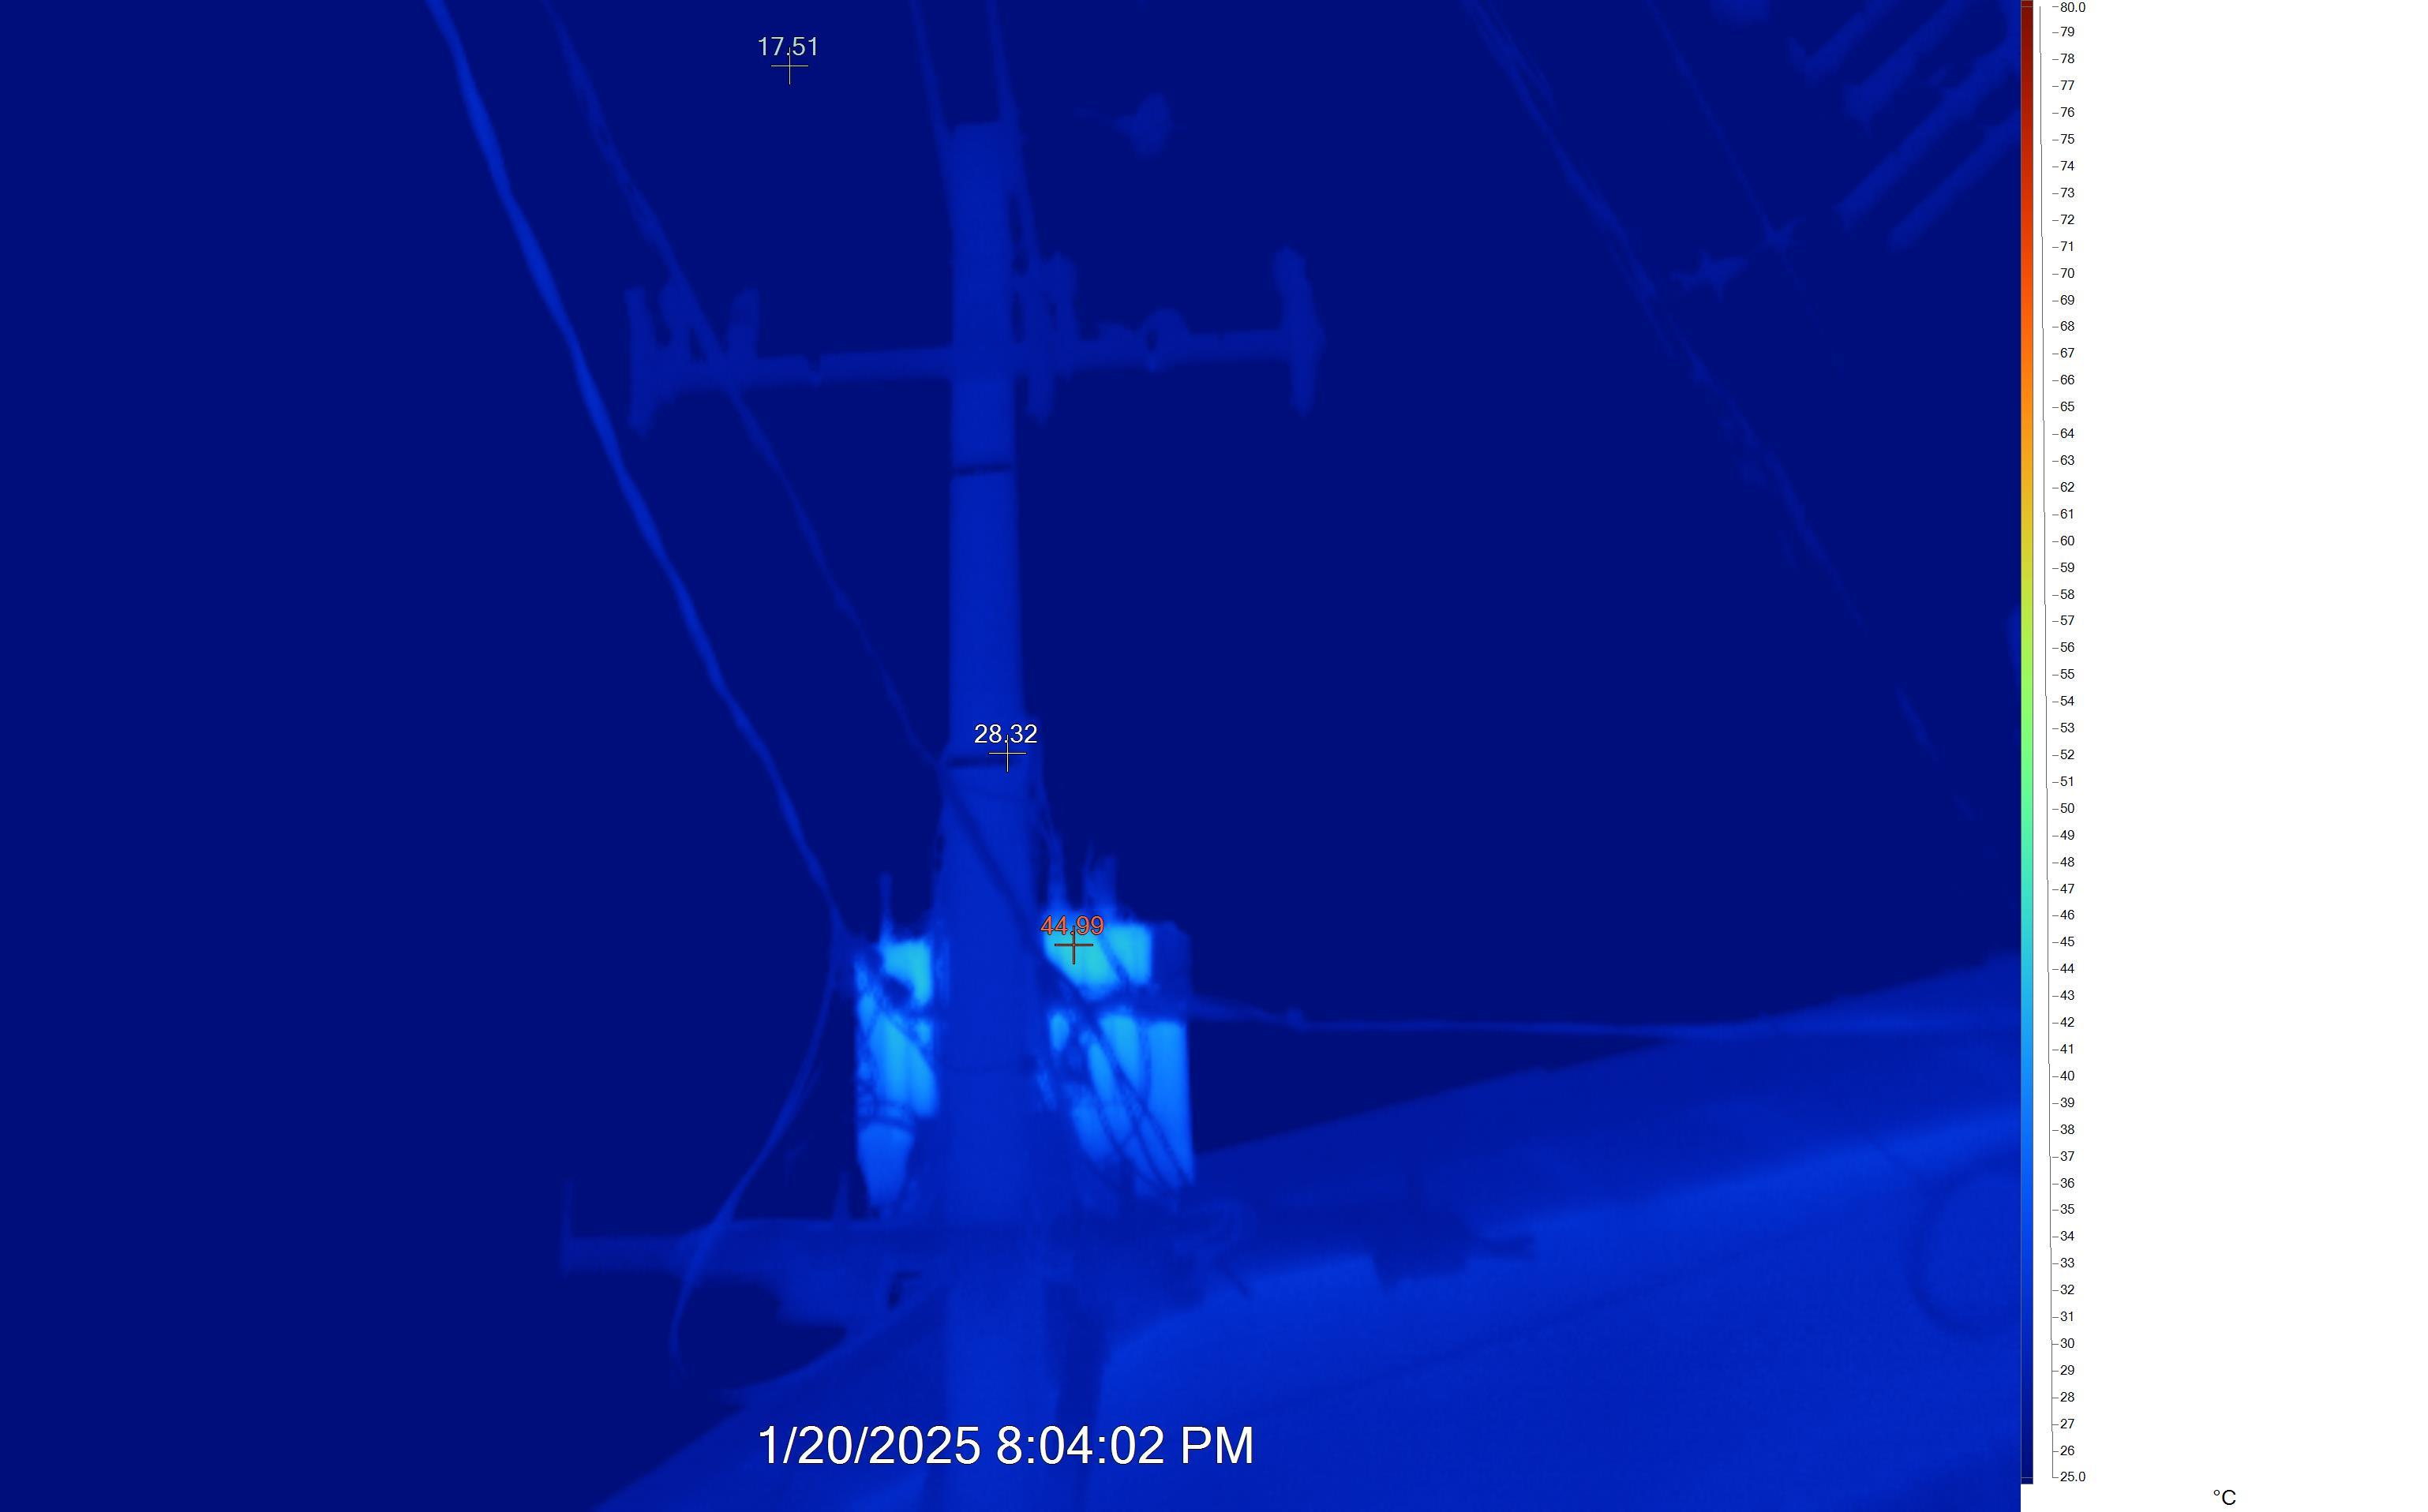normal: (862, 928, 1198, 1223)
